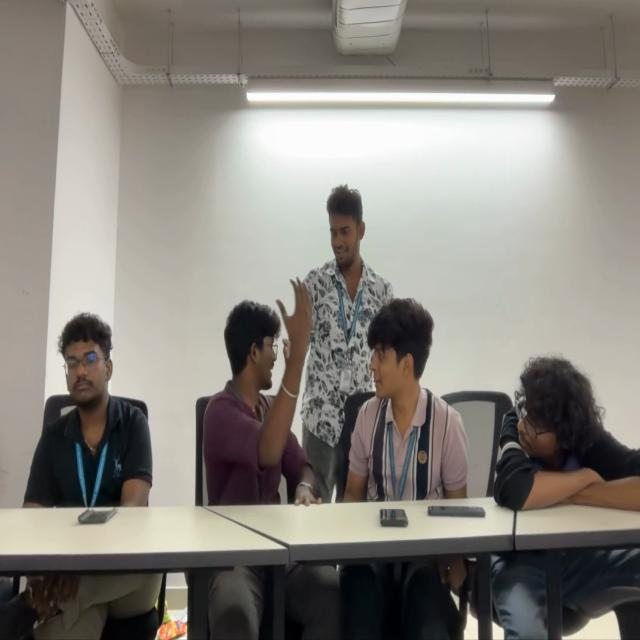Isolated: (24, 311, 152, 506), (490, 355, 640, 506)
socializing: (203, 183, 468, 499)
